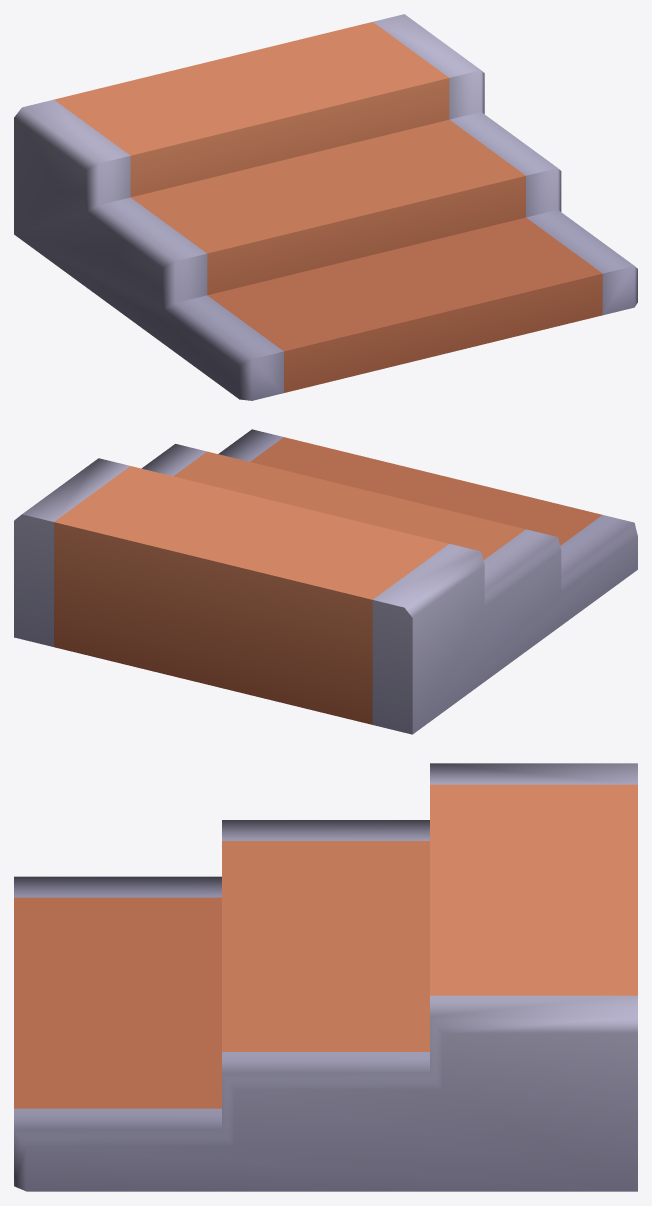
Rendered from steps.fbx.
The picture shows the model from 3 angles, top to bottom: view 1: azimuth 30°, elevation 25°; view 2: azimuth 150°, elevation 25°; view 3: azimuth 270°, elevation 25°; orthographic projection. The views are drawn at different scales.
Parts seen in each view (by area): view 1: steps; view 2: steps; view 3: steps.
Boxes of the visible parts, x1,y1,x2,y2 form: steps: (14, 14, 637, 400); steps: (14, 429, 637, 734); steps: (14, 763, 637, 1191).
Bounding box in the file's own units: 100 × 30 × 100.
1 material, 1 textured.
